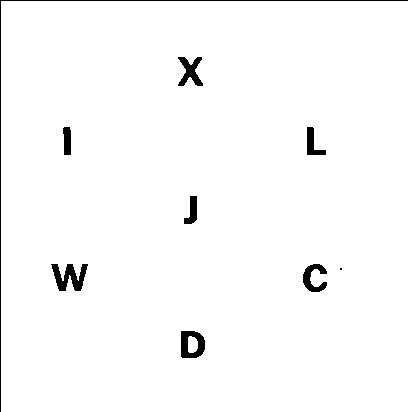I: (56, 122, 80, 165)
